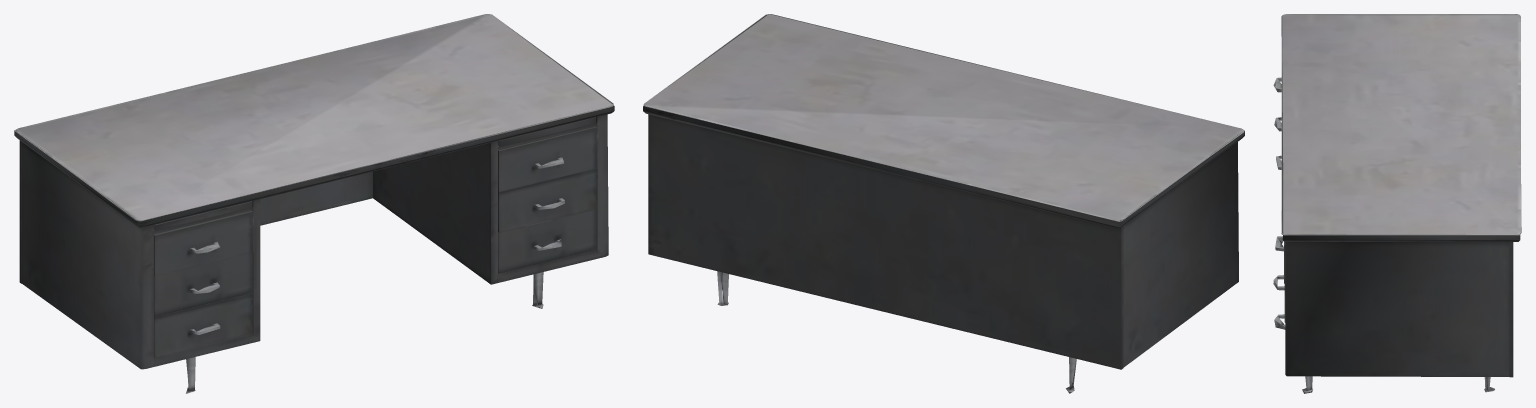
The model's file is desk.glb.
The picture shows the model from 3 angles, left to right: view 1: azimuth 30°, elevation 25°; view 2: azimuth 150°, elevation 25°; view 3: azimuth 270°, elevation 25°; orthographic projection. The views are drawn at different scales.
Visible parts, largest first — view 1: desk; view 2: desk; view 3: desk.
Part boxes in pixels (x1,y1,x2,y2): desk: [14, 14, 614, 393]; desk: [643, 14, 1244, 393]; desk: [1273, 14, 1521, 393].
Bounding box in the file's own units: 2 × 0.7867 × 0.9434.
1 material, 1 textured.
